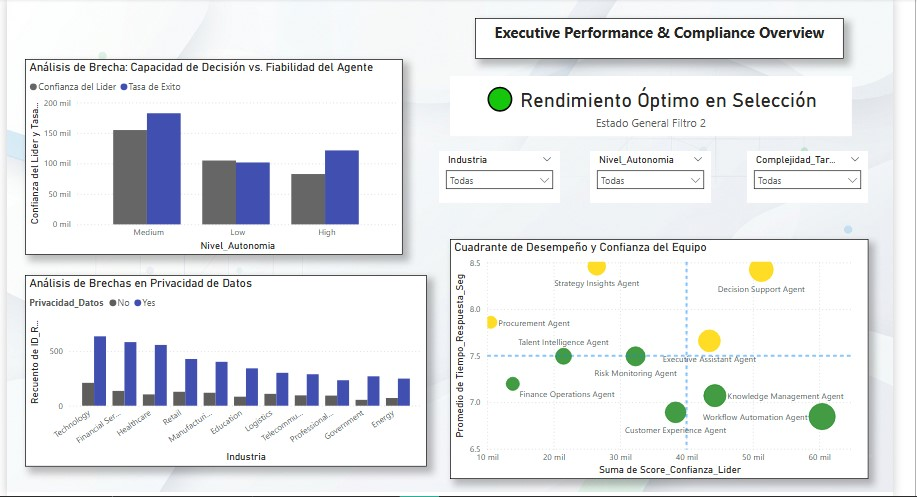

This screenshot's page, from the dashboard's own definition file:
{"tool":"powerbi","page":{"name":"Análisis de Agentes","canvas":[1280,720],"ordinal":1},"visuals":[{"type":"clusteredColumnChart","title":"Análisis de Brecha: Capacidad de Decisión vs. Fiabilidad del Agente","fields":{"Category":["vw_detalle_performance_agentes.Nivel_Autonomia"],"Y":["Sum(vw_detalle_performance_agentes.Score_Confianza_Lider)","Sum(vw_detalle_performance_agentes.Tasa_Exito)"]},"box":[25.9,88.4,545.5,283.4],"z":0},{"type":"scatterChart","title":"Cuadrante de Desempeño y Confianza del Equipo","fields":{"Y":["Avg(vw_detalle_performance_agentes.Tiempo_Respuesta_Seg)"],"X":["Sum(vw_detalle_performance_agentes.Score_Confianza_Lider)"],"Size":["CountNonNull(vw_detalle_performance_agentes.ID_Registro)"],"Category":["vw_detalle_performance_agentes.Tipo_Agente"]},"box":[640,349,605,347.4],"z":1000},{"type":"clusteredColumnChart","title":"Análisis de Brechas en Privacidad de Datos","fields":{"Category":["vw_detalle_performance_agentes.Industria"],"Y":["CountNonNull(vw_detalle_performance_agentes.ID_Registro)"],"Series":["vw_detalle_performance_agentes.Privacidad_Datos"]},"box":[25.9,400.8,580.6,277.3],"z":2000},{"type":"slicer","fields":{"Values":["vw_detalle_performance_agentes.Industria"]},"box":[624.8,221,175.2,74.7],"z":3000},{"type":"slicer","fields":{"Values":["vw_detalle_performance_agentes.Nivel_Autonomia"]},"box":[842.7,221,175.2,74.7],"z":4000},{"type":"slicer","fields":{"Values":["vw_detalle_performance_agentes.Complejidad_Tarea"]},"box":[1069.7,221,175.2,74.7],"z":5000},{"type":"card","fields":{"Values":["_Medidas.Estado General Filtro 2"]},"box":[640,112.8,580.6,86.9],"z":6000},{"type":"textbox","box":[676.6,29,533.3,59.4],"z":7000}]}

Visuals, with their boxes on the page's 1280x720 design canvas (x1, y1, x2, y2). These are canvas units, not pixel positions in the 917x497 screenshot, which may show the page scaled, cropped or inside an application window:
"Análisis de Brecha: Capacidad de Decisión vs. Fiabilidad del Agente" clusteredColumnChart: 26/88/571/372
"Cuadrante de Desempeño y Confianza del Equipo" scatterChart: 640/349/1245/696
"Análisis de Brechas en Privacidad de Datos" clusteredColumnChart: 26/401/606/678
slicer - vw_detalle_performance_agentes.Industria: 625/221/800/296
slicer - vw_detalle_performance_agentes.Nivel_Autonomia: 843/221/1018/296
slicer - vw_detalle_performance_agentes.Complejidad_Tarea: 1070/221/1245/296
card - _Medidas.Estado General Filtro 2: 640/113/1221/200
textbox: 677/29/1210/88
